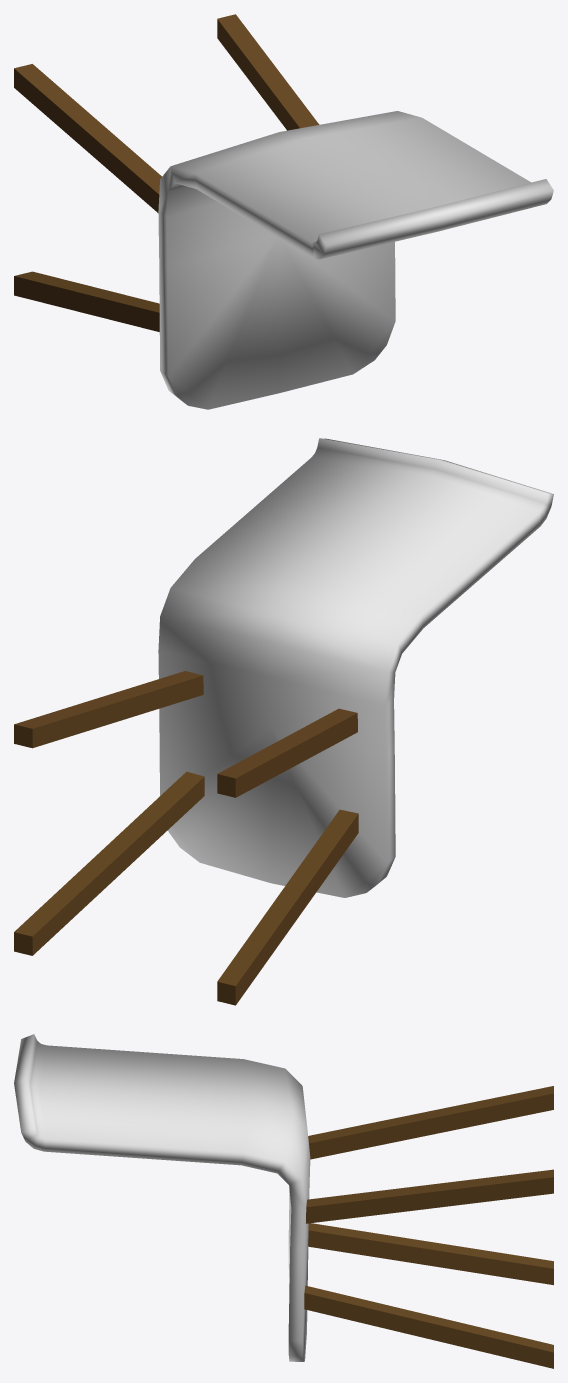
File: Chair_2.obj
The picture shows the model from 3 angles, top to bottom: view 1: azimuth 30°, elevation 25°; view 2: azimuth 150°, elevation 25°; view 3: azimuth 270°, elevation 25°; orthographic projection. The views are drawn at different scales.
Parts seen in each view (by area): view 1: Chair_2; view 2: Chair_2; view 3: Chair_2.
Boxes of the visible parts, x1,y1,x2,y2 form: Chair_2: (14, 14, 553, 409); Chair_2: (14, 438, 553, 1005); Chair_2: (14, 1034, 553, 1368).
Bounding box in the file's own units: 0.5481 × 0.6965 × 1.34.
